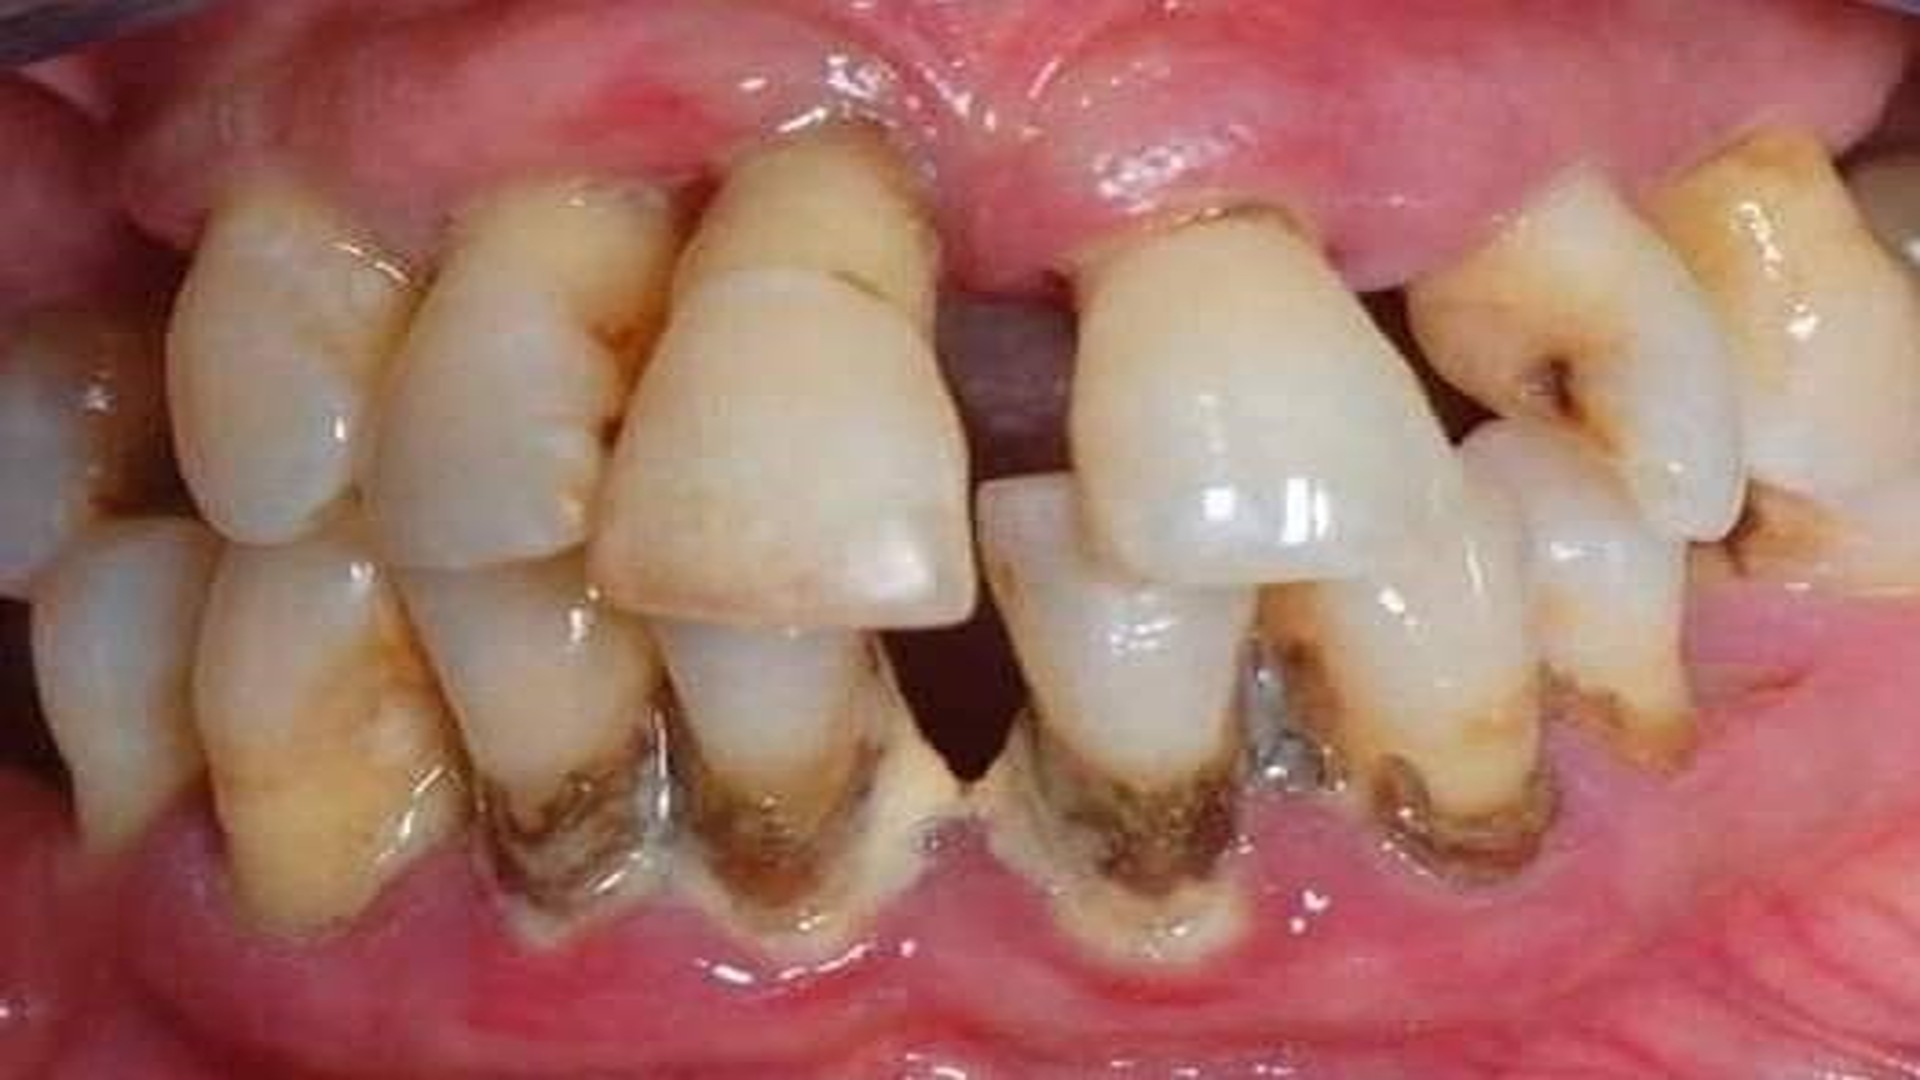tooth: (585, 124, 978, 631), (1069, 207, 1447, 586), (1403, 166, 1749, 543), (1650, 123, 1918, 596), (367, 181, 674, 568), (192, 544, 475, 937), (389, 549, 668, 914), (1277, 494, 1547, 854), (165, 194, 429, 545), (977, 472, 1253, 791), (1460, 416, 1696, 772), (647, 618, 880, 917), (31, 517, 224, 854), (1, 309, 155, 599)
